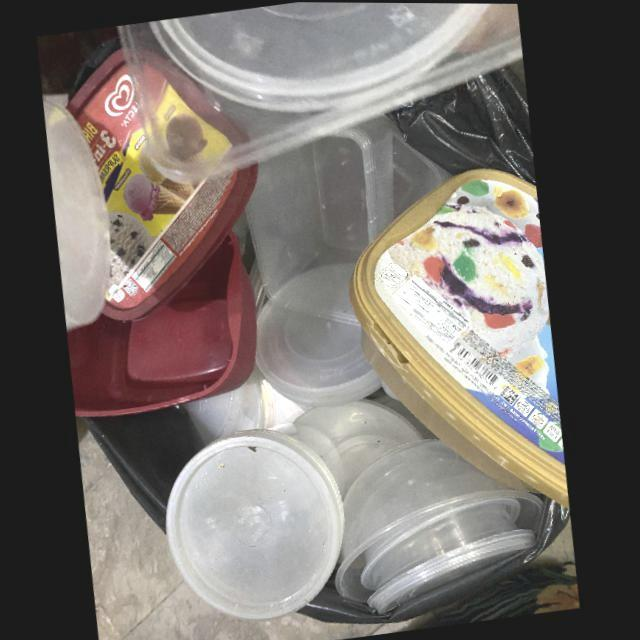plastic_container: (353, 169, 574, 514), (118, 2, 523, 186), (68, 49, 261, 322), (339, 440, 547, 613), (70, 231, 260, 419), (169, 435, 350, 622), (247, 116, 396, 327), (258, 260, 385, 410), (43, 94, 115, 334), (274, 400, 428, 499), (391, 135, 458, 219)
